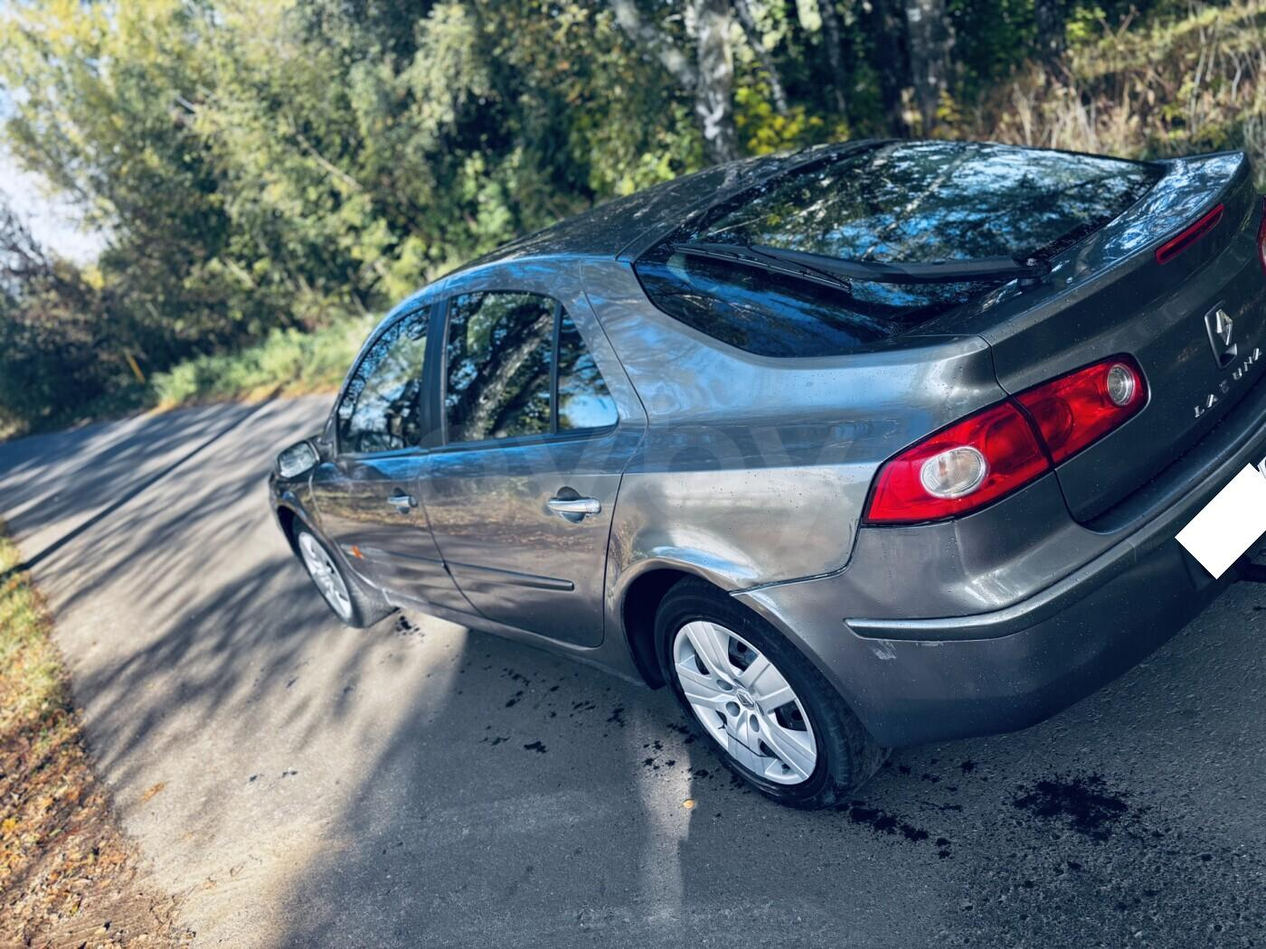Laguna_2005-2007: (260, 124, 1266, 805)
